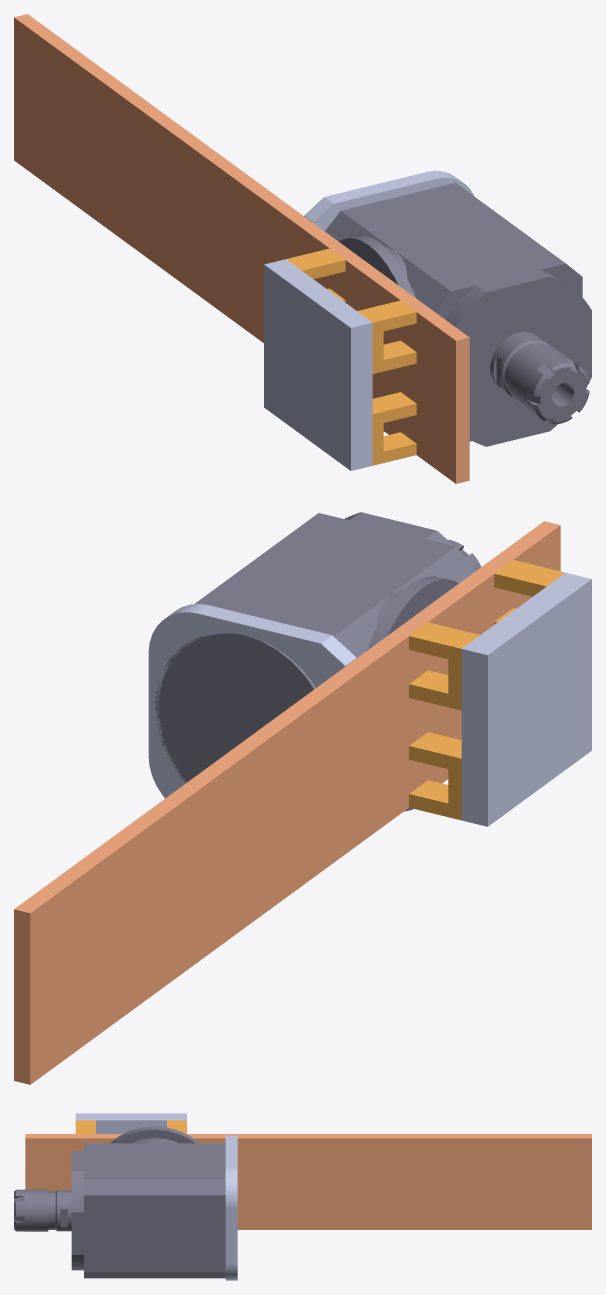
File: MotorNEW.DAE
3 views of the same model, one above another, from view 1: azimuth 30°, elevation 25°; view 2: azimuth 150°, elevation 25°; view 3: azimuth 270°, elevation 25° (orthographic). The views are drawn at different scales.
Parts seen in each view (by area): view 1: NONE-DC_Shell (×7); view 2: NONE-DC_Shell (×7); view 3: NONE-DC_Shell (×5).
Part boxes in pixels (x1=…): NONE-DC_Shell (×7): x1=14, y1=14, x2=591, y2=483; NONE-DC_Shell (×7): x1=14, y1=512, x2=591, y2=1084; NONE-DC_Shell (×5): x1=14, y1=1113, x2=591, y2=1280.
Bounding box in the file's own units: 0.089 × 0.2855 × 0.063.
